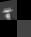eyeC: (0, 20, 17, 37)
potion: (0, 0, 17, 20)
